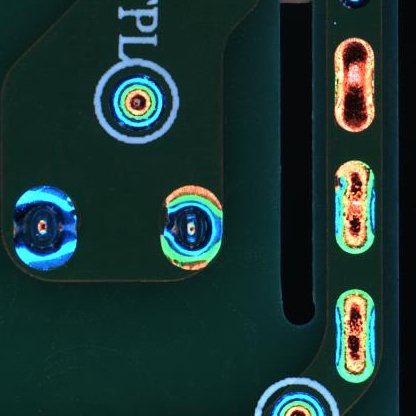spot: (148, 179, 231, 281), (11, 181, 85, 287), (99, 69, 169, 143)
